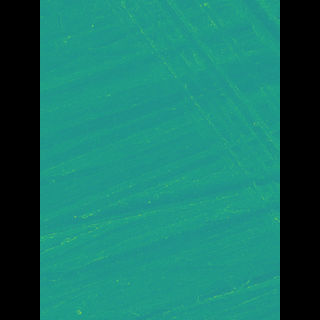Loch: (118, 0, 251, 244), (69, 165, 251, 244)
